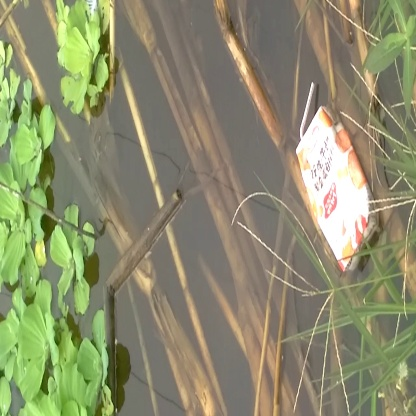milk-box: (288, 82, 386, 278)
